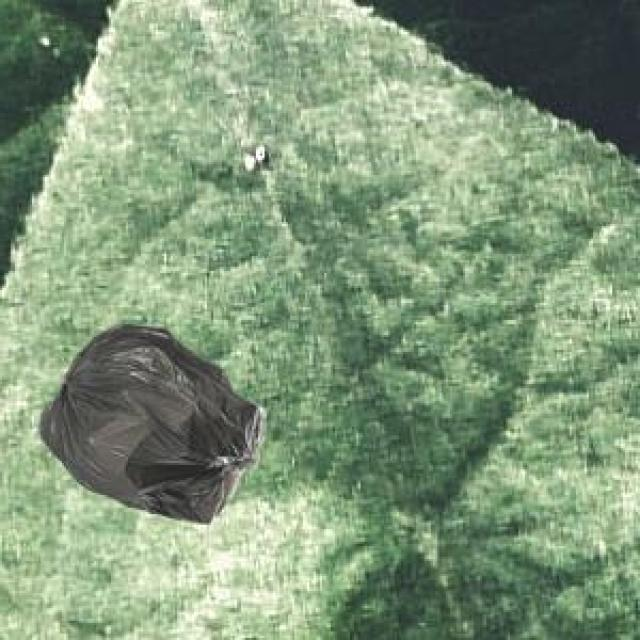Trashbag: (33, 313, 269, 534)
